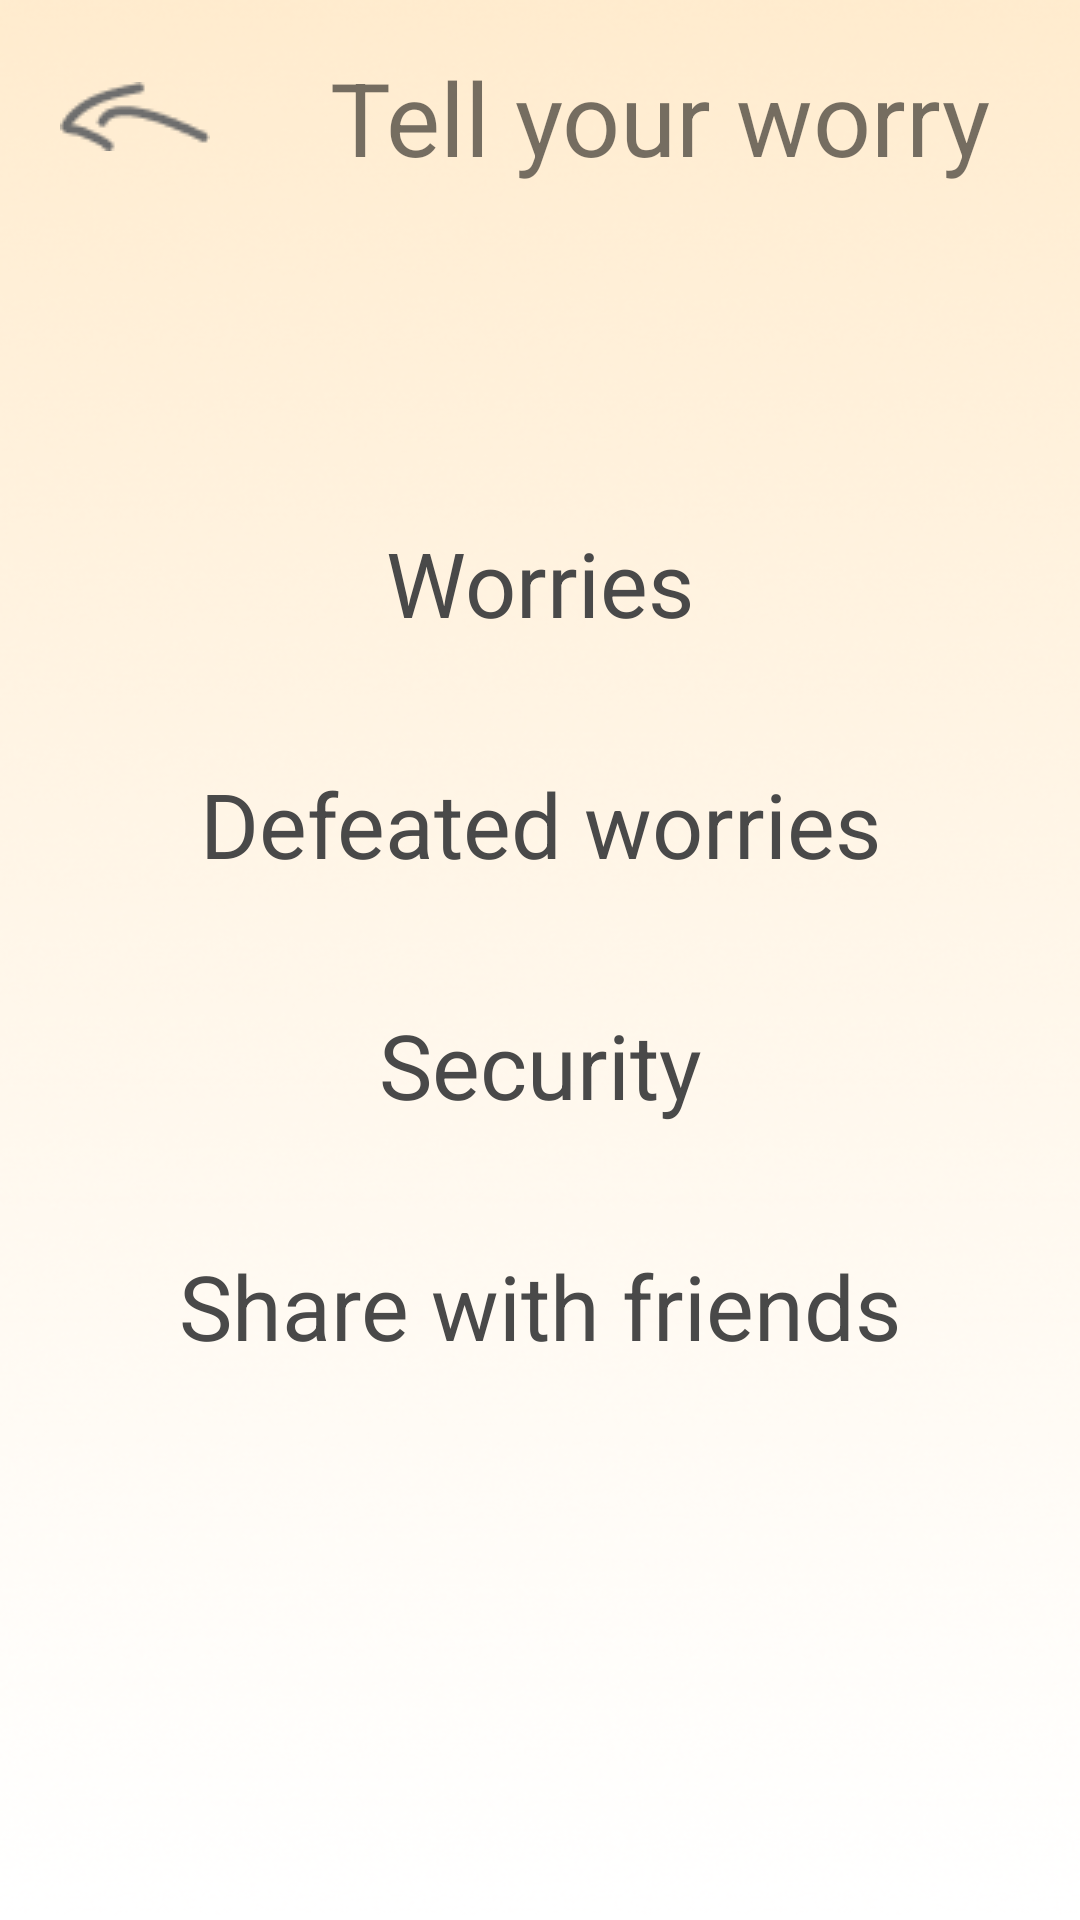

Screen size 1080x1920. Icon name, then its center in pixels as point (x, y):
back: point (135, 116)
